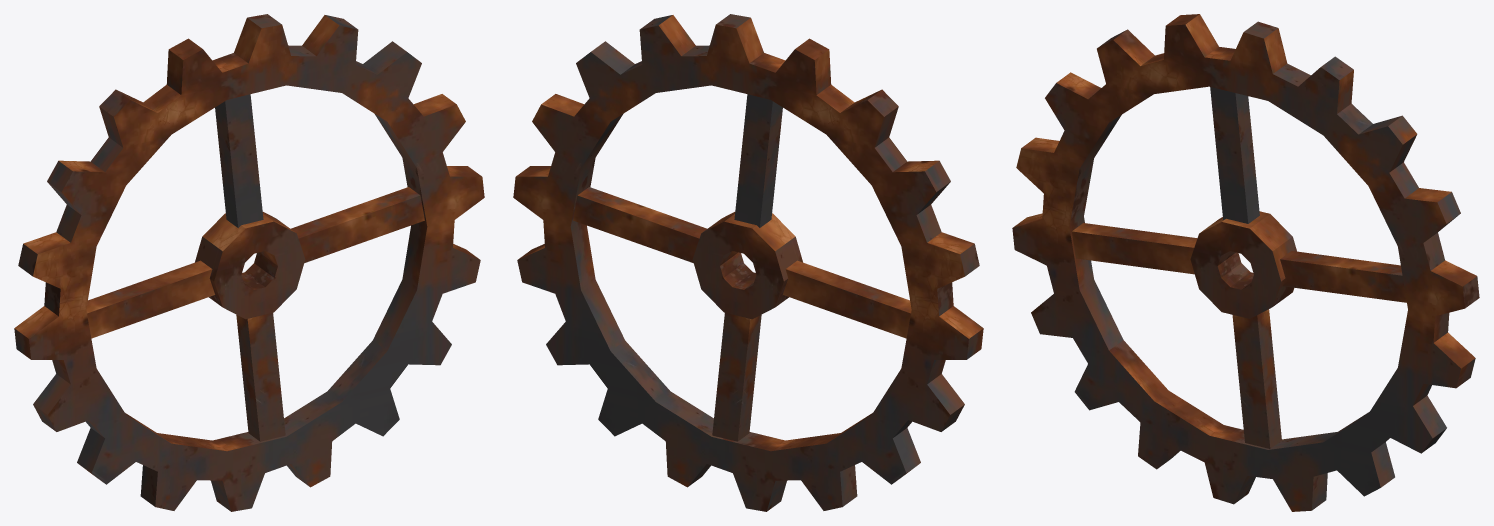
File: Gear_Large.glb
3 renders of one model, left to right at view 1: azimuth 30°, elevation 25°; view 2: azimuth 150°, elevation 25°; view 3: azimuth 330°, elevation 25°, orthographic.
Parts seen in each view (by area): view 1: Gear_Large; view 2: Gear_Large; view 3: Gear_Large.
Boxes of the visible parts, <box> form: Gear_Large: <box>14,14,484,511</box>; Gear_Large: <box>513,14,983,511</box>; Gear_Large: <box>1012,14,1479,511</box>.
Size of the model in its own units: 0.8982 by 0.8998 by 0.07.
Materials: 1 (1 with a texture image).
